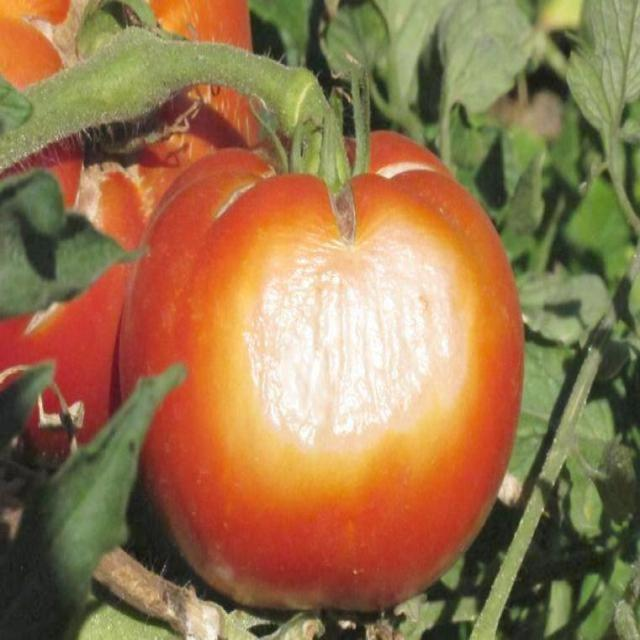Sunscald Fruit: (151, 141, 315, 308)
